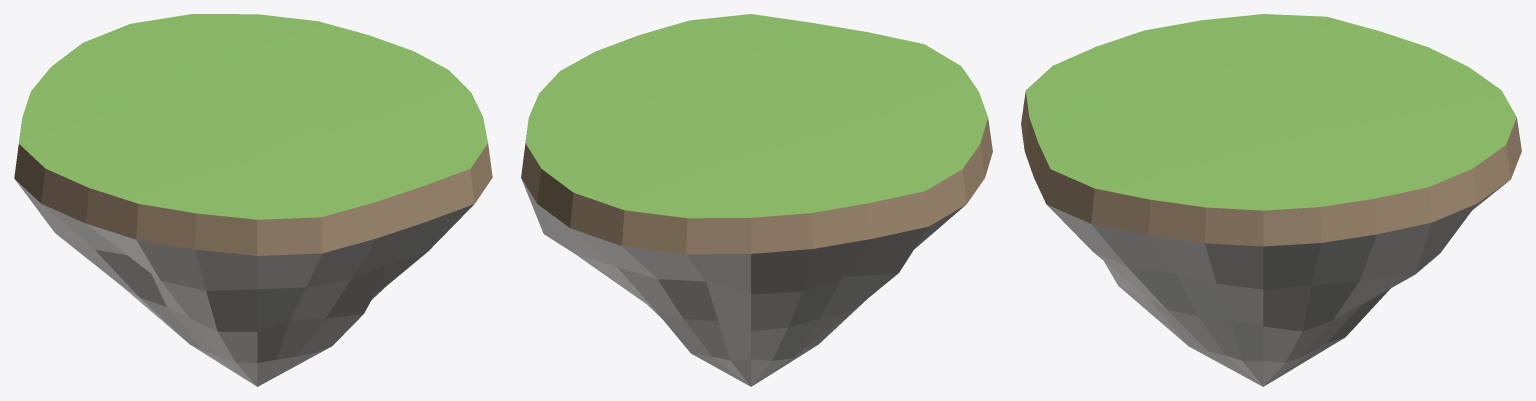
The model's file is FloatIsland_0.fbx.
3 views of the same model, side by side, from view 1: azimuth 30°, elevation 25°; view 2: azimuth 150°, elevation 25°; view 3: azimuth 270°, elevation 25° (orthographic).
Parts seen in each view (by area): view 1: FloatIsland_0; view 2: FloatIsland_0; view 3: FloatIsland_0.
Part boxes in pixels (<box>): FloatIsland_0: <box>14,14,492,386</box>; FloatIsland_0: <box>521,14,992,386</box>; FloatIsland_0: <box>1021,14,1521,386</box>.
Size of the model in its own units: 4.42 by 2.82 by 4.66.
